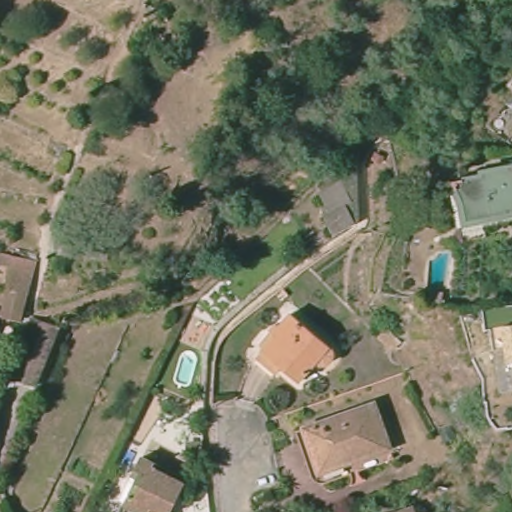pool: (426, 248, 454, 296), (172, 353, 200, 386)
